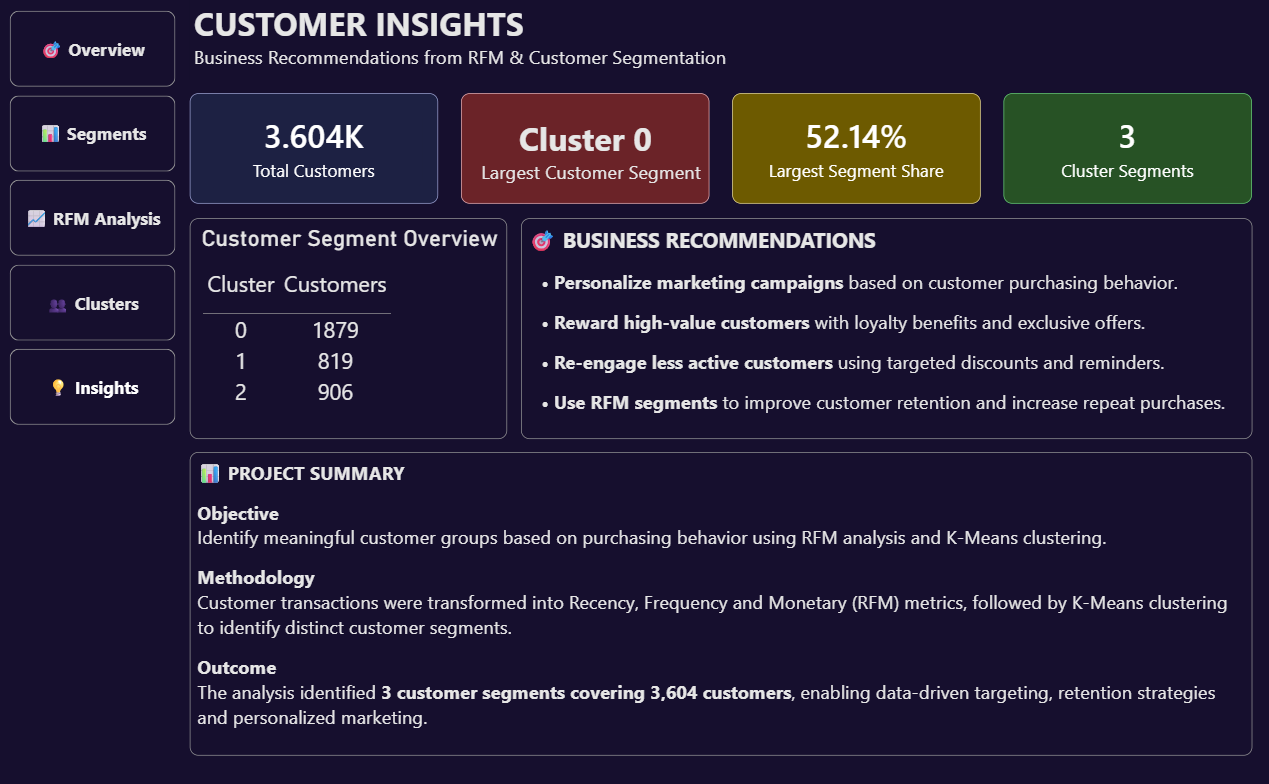

The dashboard page shown, as its layout file describes it:
{"tool":"powerbi","page":{"name":"💡 Insights","canvas":[1480,920],"ordinal":4},"visuals":[{"type":"pageNavigator","box":[16,16,192,480],"z":0},{"type":"textbox","box":[224,0,736,96],"z":1000},{"type":"cardVisual","fields":{"Data":["Count(Customer_Segments.CustomerID)"]},"box":[224,112,288,128],"z":2000},{"type":"textbox","box":[538.7,112,288,128],"z":3000},{"type":"cardVisual","fields":{"Data":["Customer_Segments.Cluster 0 Share"]},"box":[853.3,112,288,128],"z":4000},{"type":"cardVisual","fields":{"Data":["Count(Customer_Segments.Cluster)"]},"box":[1168,112,288,128],"z":5000},{"type":"tableEx","title":"Customer Segment Overview","fields":{"Values":["Customer_Segments.Cluster","Customer_Segments.CustomerID"]},"box":[224,256,368,256],"z":6000},{"type":"textbox","box":[608,256,848,256],"z":7000},{"type":"textbox","box":[224,528,1232,352],"z":8000}]}

Visuals, with their boxes in screenshot pixels (x1, y1, x2, y2), scaled from the page's 1480x920 canvas onto the 1269x784 screenshot:
pageNavigator: 14/14/178/423
textbox: 192/0/823/82
cardVisual - Count(Customer_Segments.CustomerID): 192/95/439/205
textbox: 462/95/709/205
cardVisual - Customer_Segments.Cluster 0 Share: 732/95/979/205
cardVisual - Count(Customer_Segments.Cluster): 1001/95/1248/205
"Customer Segment Overview" tableEx: 192/218/508/436
textbox: 521/218/1248/436
textbox: 192/450/1248/750
